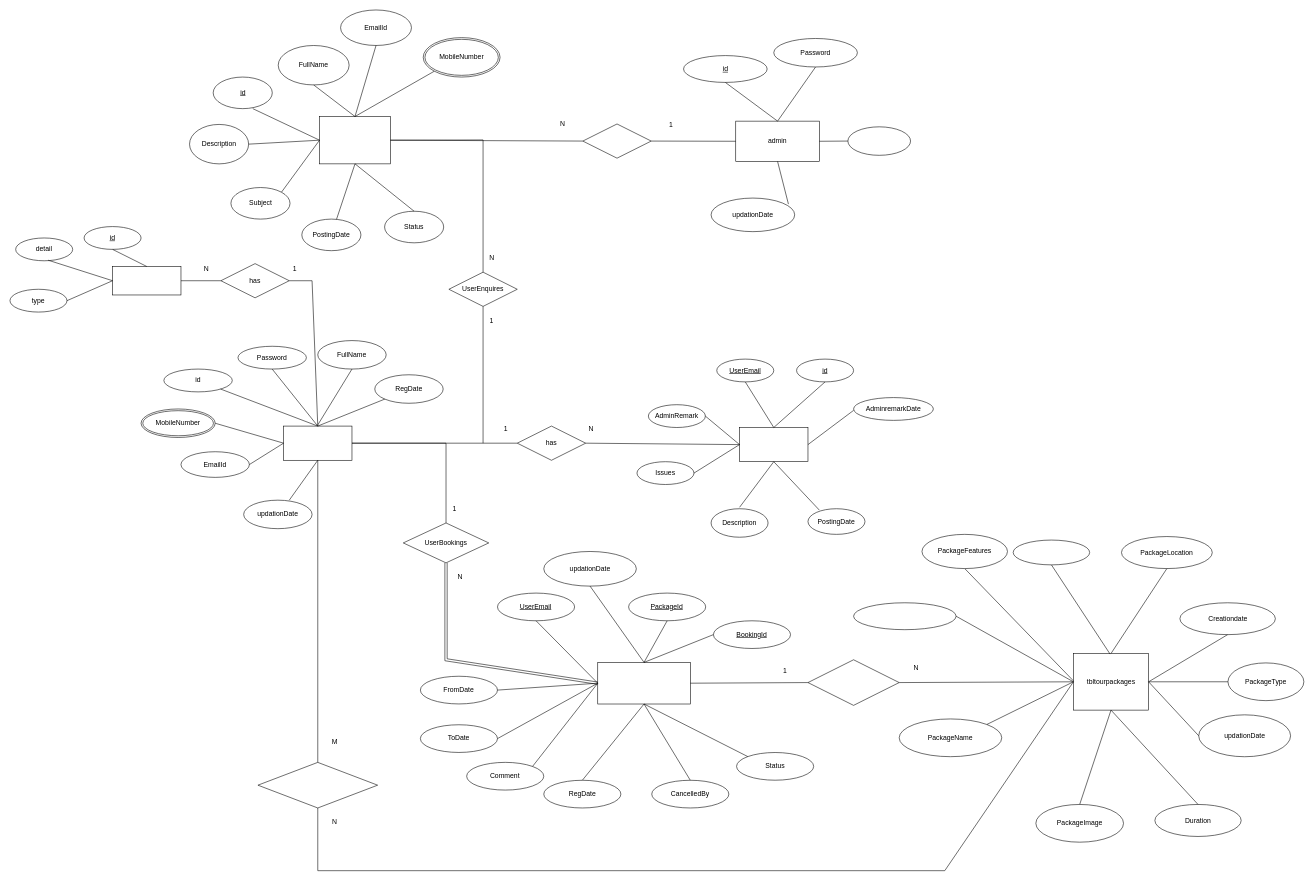
Image size: 1314x881. Some labels were removed from this diagram. Each missing label, with the centre of its shape:
"BookingPackage" goes at (853,682).
"PackageDetails" goes at (904,616).
"PackagePrice" goes at (1051,552).
"resolves" goes at (616,140).
"tblbooking" goes at (643,683).
"tblenquiry" goes at (354,140).
"tblissues" goes at (773,444).
"tblpages" goes at (146,280).
"tblusers" goes at (317,443).
"UserName" goes at (879,140).
"UserPackages" goes at (317,785).
